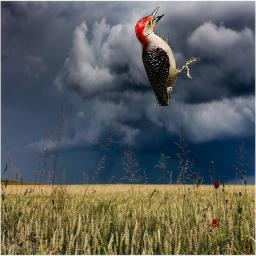Woodpecker: (135, 6, 201, 106)
